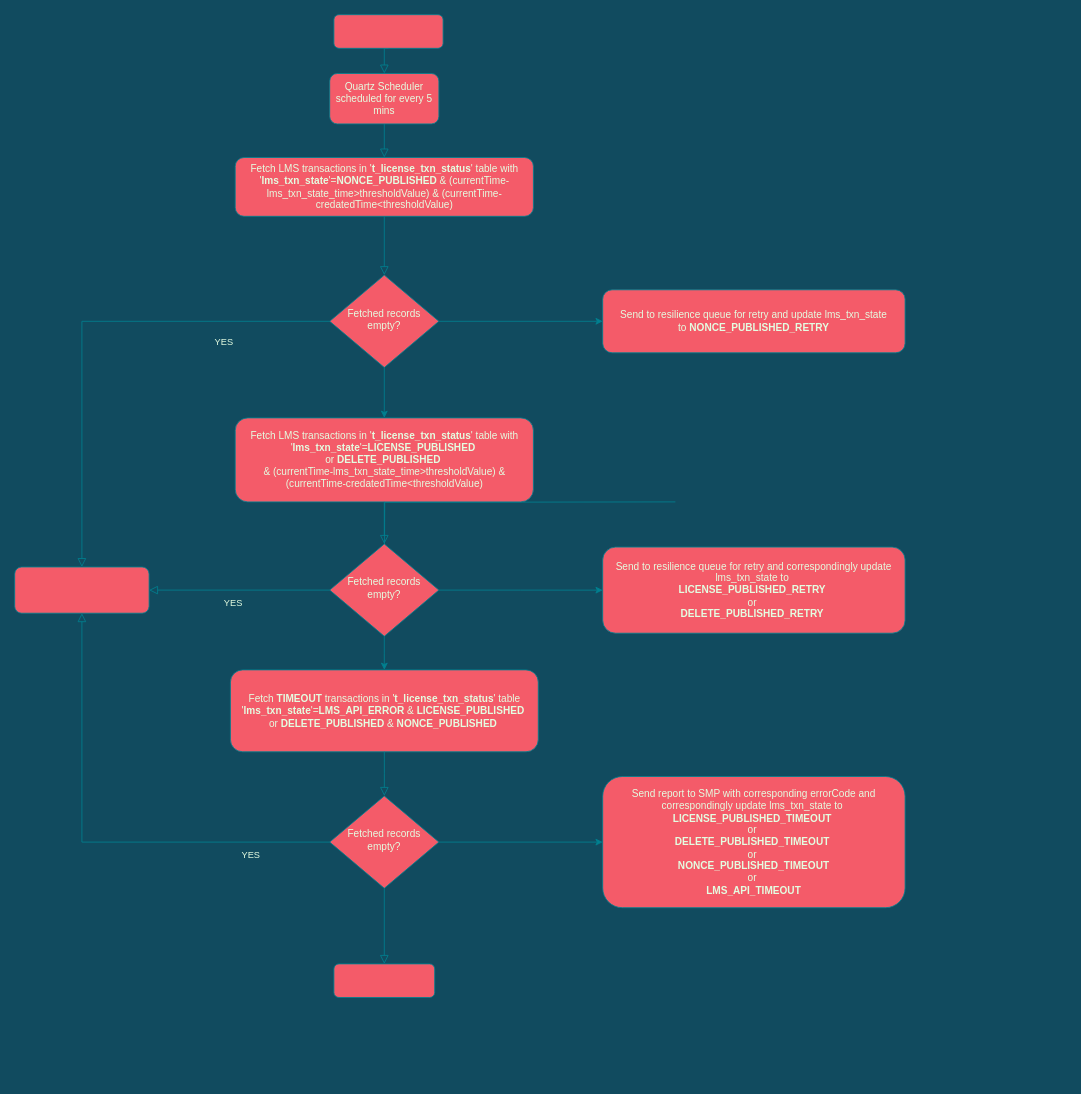
This 1081x1094 diagram has some shape labels left out. The centre of each missing label's shape, as x and y in pixels:
"Log details as No LMS records present for retrying or reporting to SMP" goes at (x=81, y=589).
"START" goes at (x=388, y=31).
"STOP" goes at (x=384, y=980).
